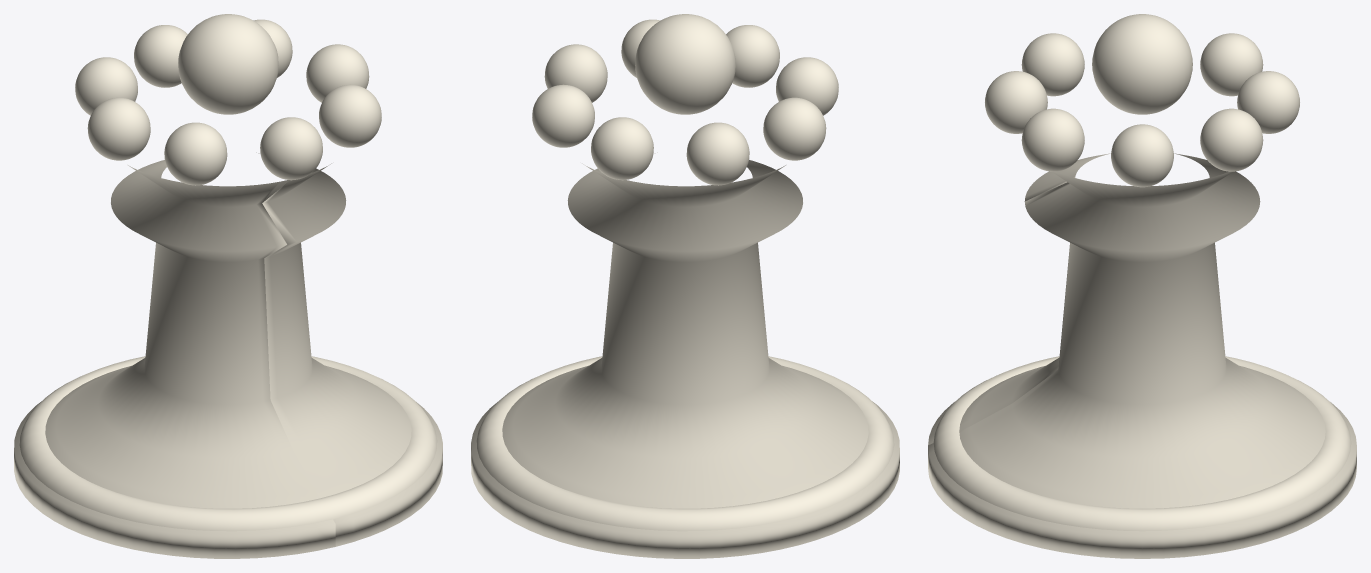
The picture shows the model from 3 angles, left to right: view 1: azimuth 30°, elevation 25°; view 2: azimuth 150°, elevation 25°; view 3: azimuth 270°, elevation 25°; orthographic projection.
Size of the model in its own units: 1.02 by 1.18 by 1.02.
